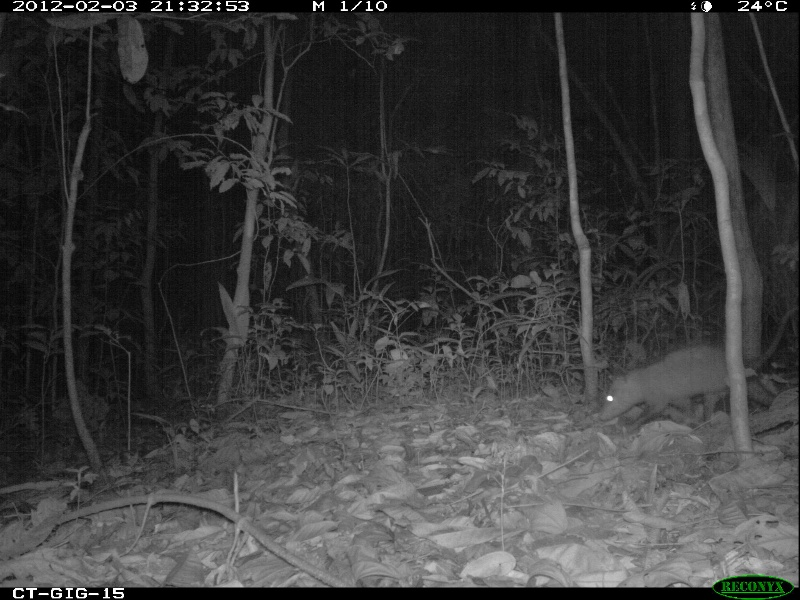opossum: (597, 306, 797, 435)
